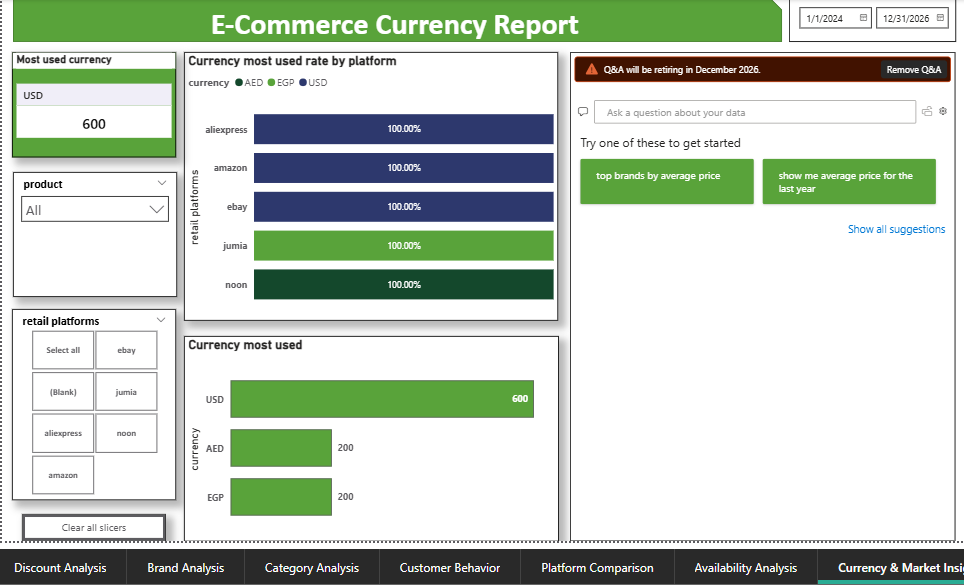

This screenshot's page, from the dashboard's own definition file:
{"tool":"powerbi","page":{"name":"Currency & Market Insight","canvas":[1280,720],"ordinal":9},"visuals":[{"type":"shape","box":[14.3,0,1021.7,57.1],"z":0},{"type":"slicer","fields":{"Values":["ecommerce_dataset.product"]},"box":[14.9,230,218.1,165.8],"z":1000},{"type":"slicer","fields":{"Values":["ecommerce_dataset.retail platforms"]},"box":[13.4,412.3,218.1,253.9],"z":2000},{"type":"barChart","title":"Currency most used","fields":{"Category":["ecommerce_dataset.currency"],"Y":["CountNonNull(ecommerce_dataset.retail platforms)"]},"box":[242.3,447.3,497.7,273.2],"z":3000},{"type":"actionButton","box":[26.8,684.2,191.3,35.8],"z":4000},{"type":"hundredPercentStackedBarChart","title":"Currency most used rate by platform","fields":{"Category":["ecommerce_dataset.retail platforms"],"Y":["CountNonNull(ecommerce_dataset.currency)"],"Series":["ecommerce_dataset.currency"]},"box":[242,70.2,497.4,357],"z":5000},{"type":"cardVisual","title":"Most used currency","fields":{"Data":["CountNonNull(ecommerce_dataset.currency)"],"Rows":["ecommerce_dataset.currency"]},"box":[13.4,70.2,218.1,140.4],"z":6000},{"type":"qnaVisual","box":[754.4,70.2,512.4,649.8],"z":7000},{"type":"slicer","fields":{"Values":["Date Table.Date"]},"box":[1045.8,0,221.7,57.2],"z":8000}]}

Visuals, with their boxes on the page's 1280x720 design canvas (x1, y1, x2, y2). These are canvas units, not pixel positions in the 964x585 screenshot, which may show the page scaled, cropped or inside an application window:
shape: 14,0,1036,57
slicer - ecommerce_dataset.product: 15,230,233,396
slicer - ecommerce_dataset.retail platforms: 13,412,232,666
"Currency most used" barChart: 242,447,740,720
actionButton: 27,684,218,720
"Currency most used rate by platform" hundredPercentStackedBarChart: 242,70,739,427
"Most used currency" cardVisual: 13,70,232,211
qnaVisual: 754,70,1267,720
slicer - Date Table.Date: 1046,0,1268,57
